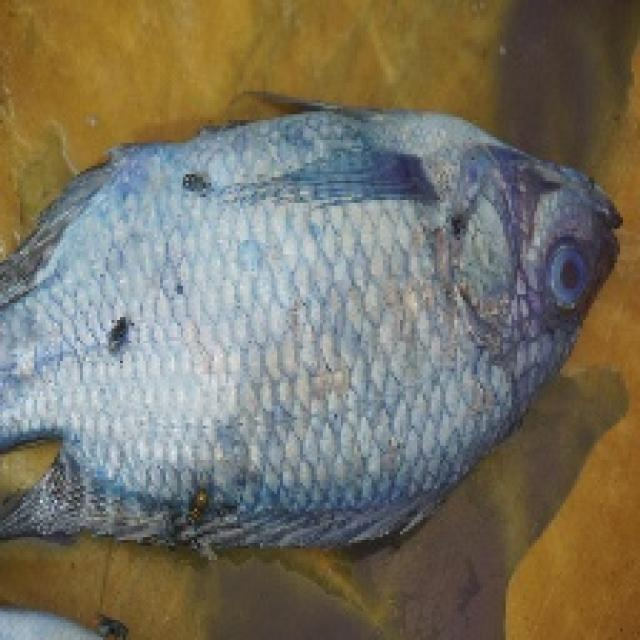Non-Fresh: (79, 126, 530, 508), (519, 230, 607, 320)
